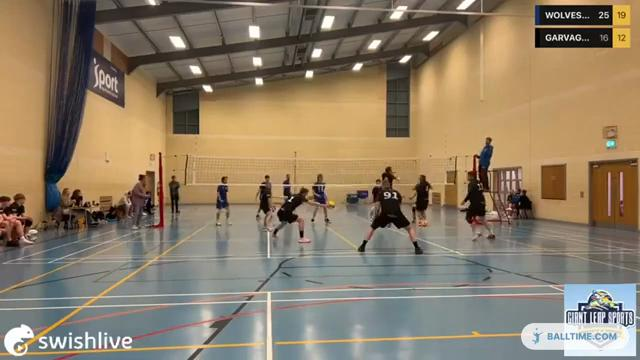Dig: (268, 183, 325, 243)
Player: (358, 180, 422, 253), (273, 187, 325, 242), (461, 172, 494, 240), (410, 175, 431, 226), (256, 175, 271, 230), (216, 176, 230, 225), (381, 166, 398, 187), (256, 175, 270, 199), (371, 179, 381, 203), (283, 174, 291, 200), (322, 206, 329, 223)
ball: (326, 199, 337, 211)
